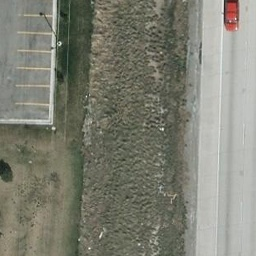car: (222, 1, 241, 31)
